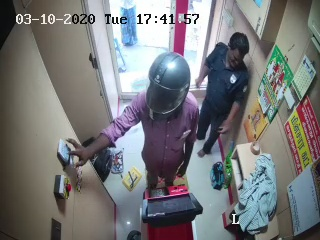helmet: (142, 51, 192, 122)
